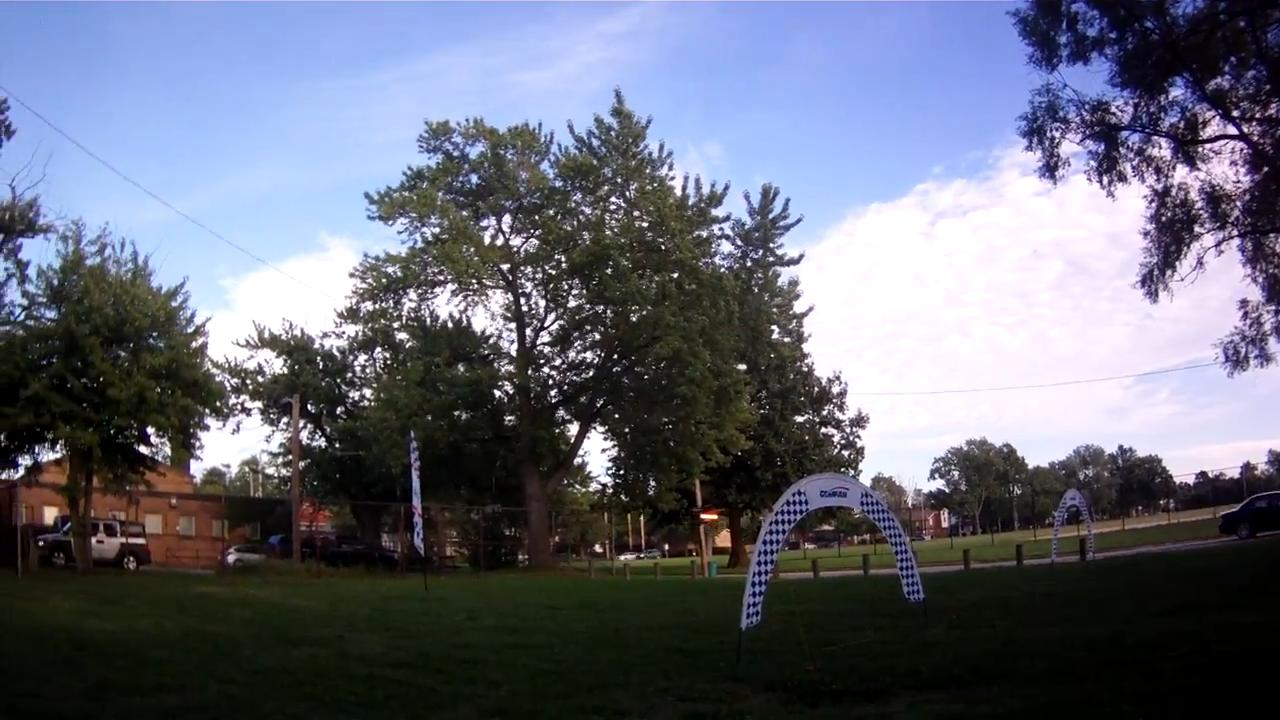gate: (740, 472, 928, 629), (1045, 485, 1100, 565)
